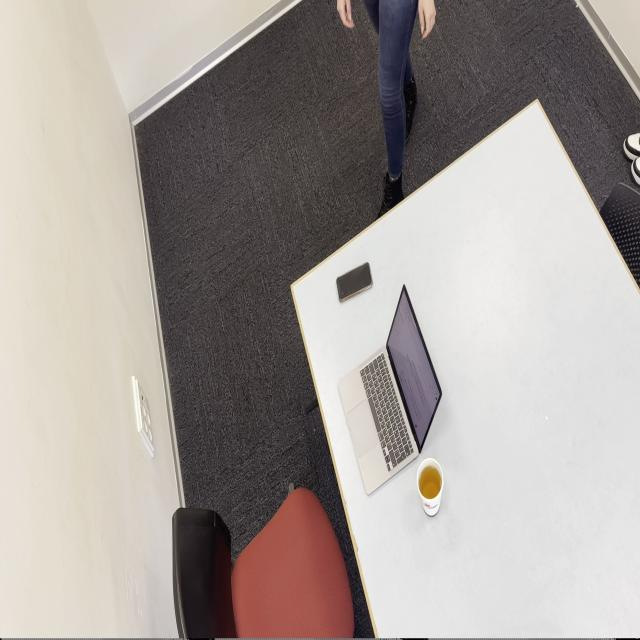bag: (336, 261, 372, 302)
ipad: (336, 0, 436, 220)
laptop: (337, 283, 442, 495)
